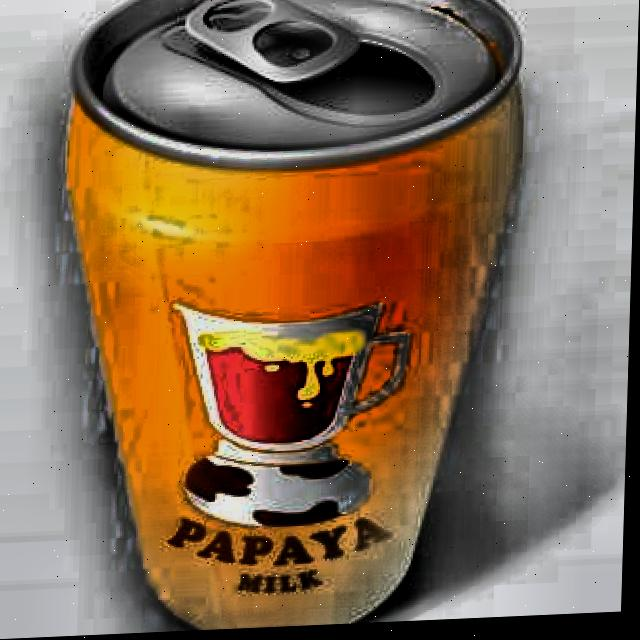metal: (47, 0, 542, 638)
